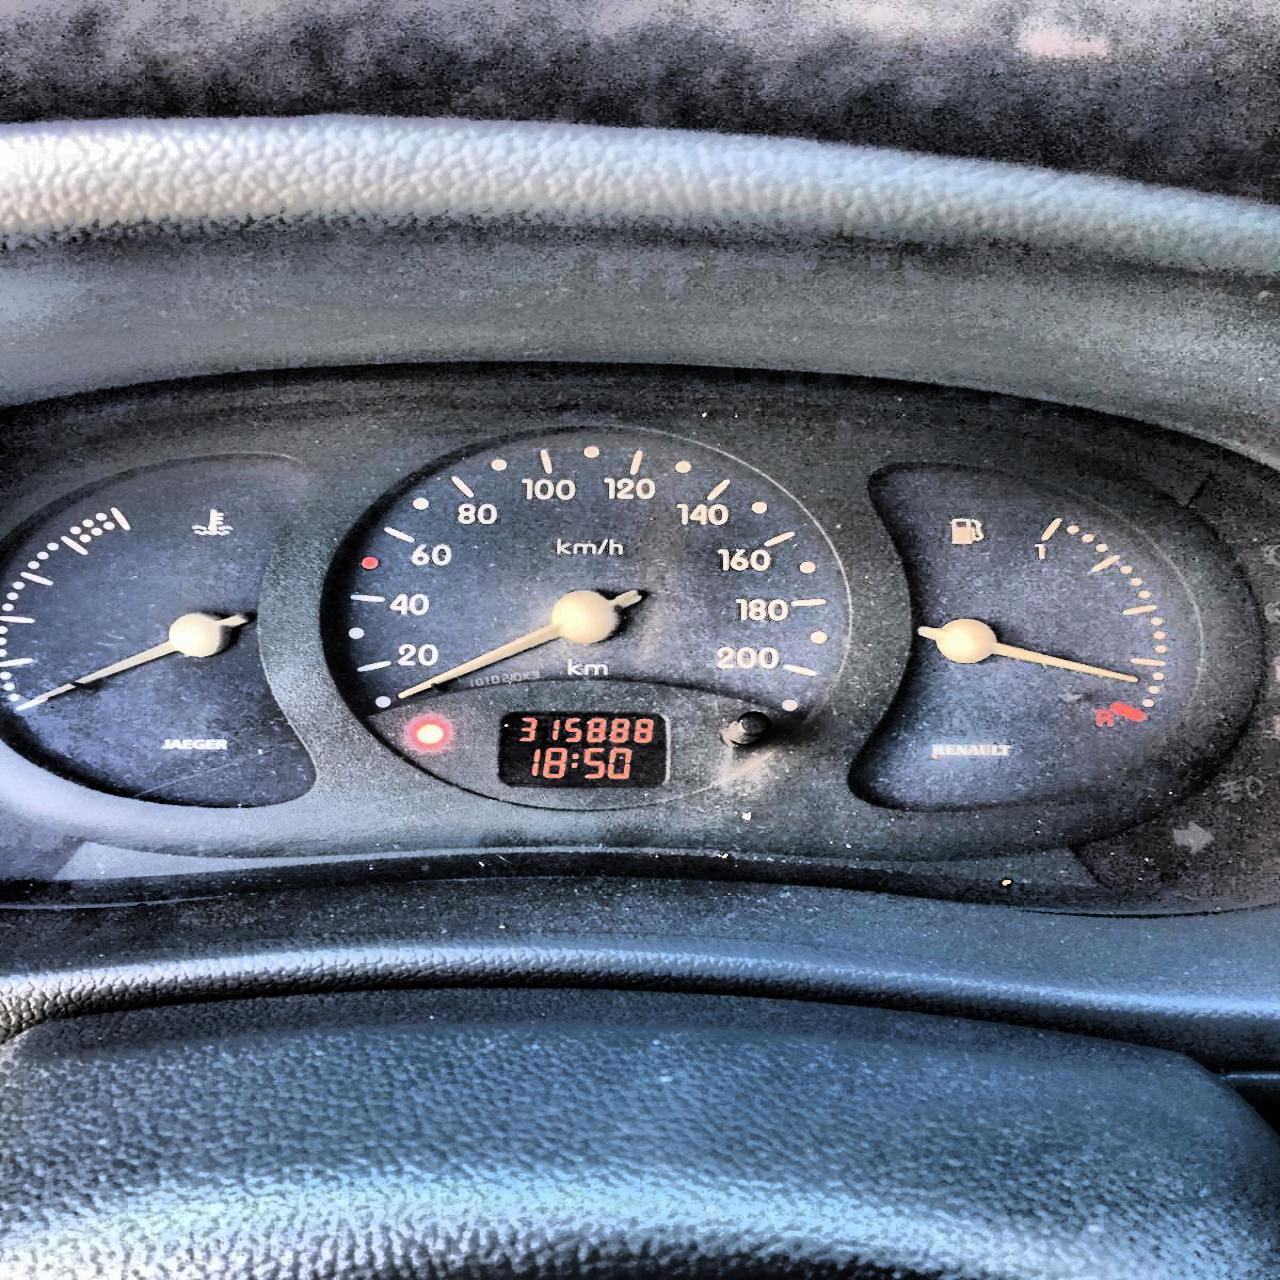0: (606, 747, 631, 778)
1: (530, 748, 539, 776), (551, 719, 559, 740)
3: (518, 717, 537, 741)
5: (583, 747, 604, 778), (563, 717, 580, 742)
8: (540, 747, 566, 778), (632, 717, 653, 742), (586, 717, 605, 742), (610, 719, 628, 742)
X: (570, 753, 578, 768)
odometer: (493, 708, 670, 790)
